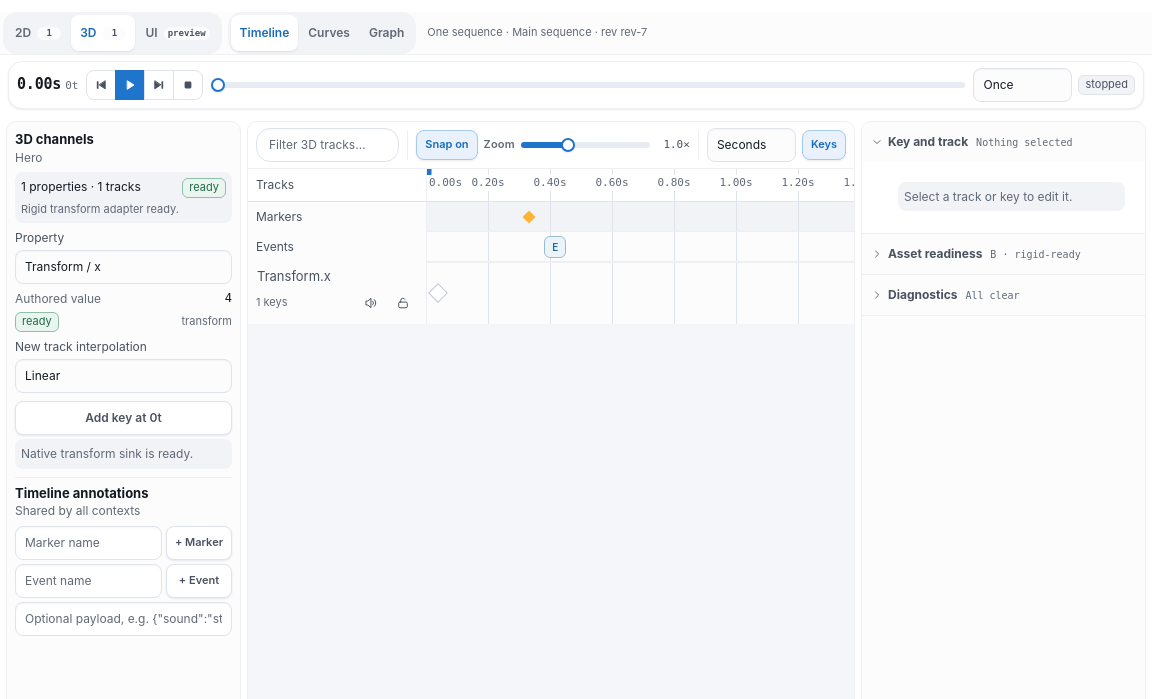
Test: renders typed 2D and UI previews from the same sequence without a parallel editor
Check: the element with test id "animation-context-readiness" is shown, box x1=15 y1=172 x2=232 y2=223
Click the tab "2D 1" at (38, 33), box x1=6 y1=15 x2=70 y2=51
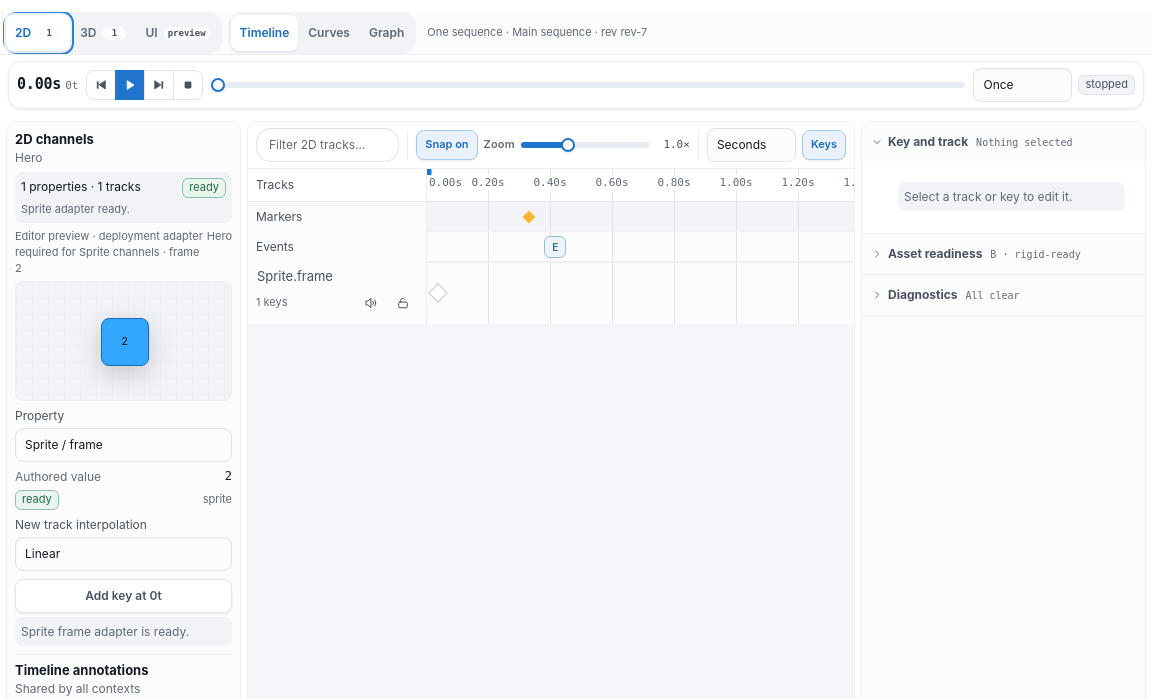
Check: the element named "2D animation preview" is shown, box x1=15 y1=281 x2=232 y2=401
Click the tab "UI preview" at (178, 33), box x1=136 y1=15 x2=219 y2=51
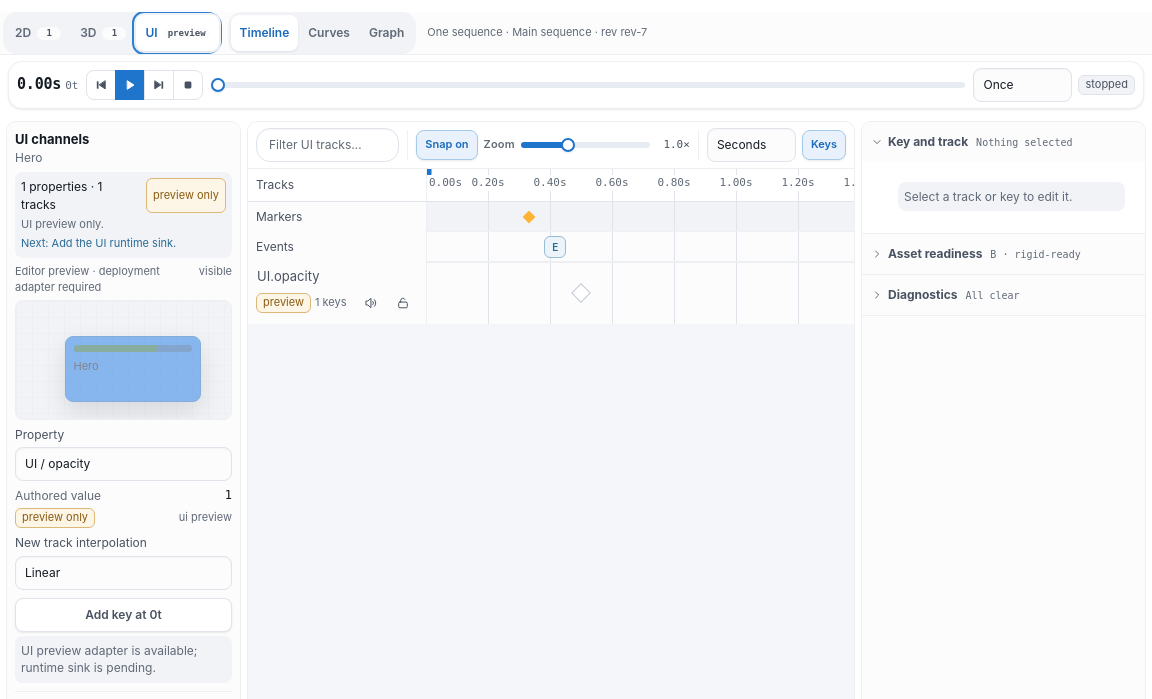
Check: the text "Editor preview · deployment adapter required" is shown, box x1=15 y1=264 x2=160 y2=294
Check: the element named "UI animation preview" is shown, box x1=15 y1=300 x2=232 y2=420
